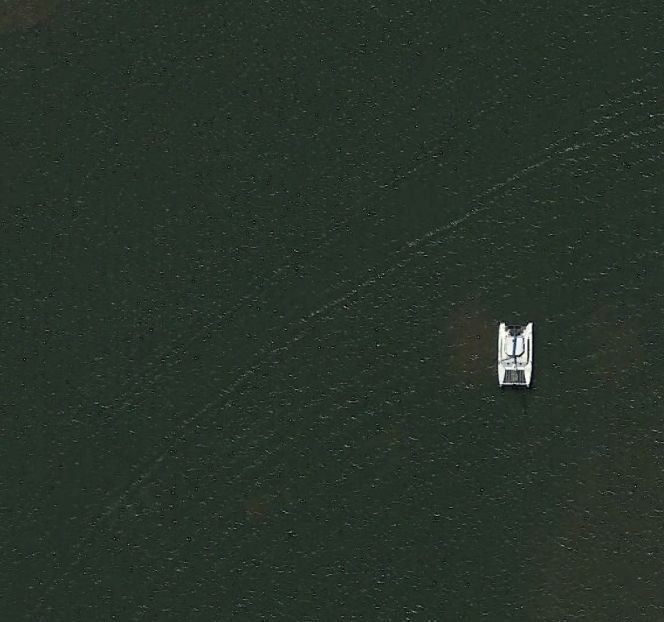boat: (491, 319, 536, 390)
